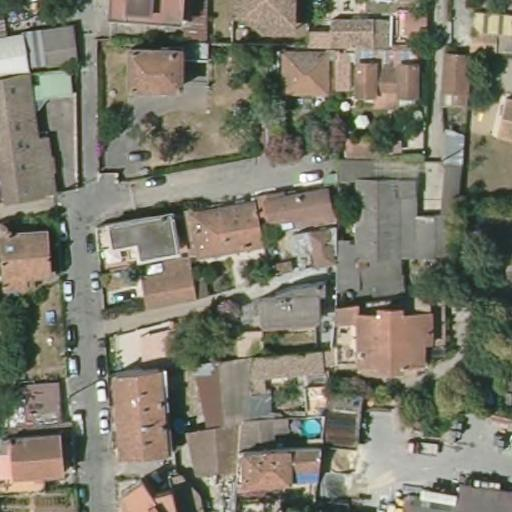pool: (299, 415, 323, 442)
